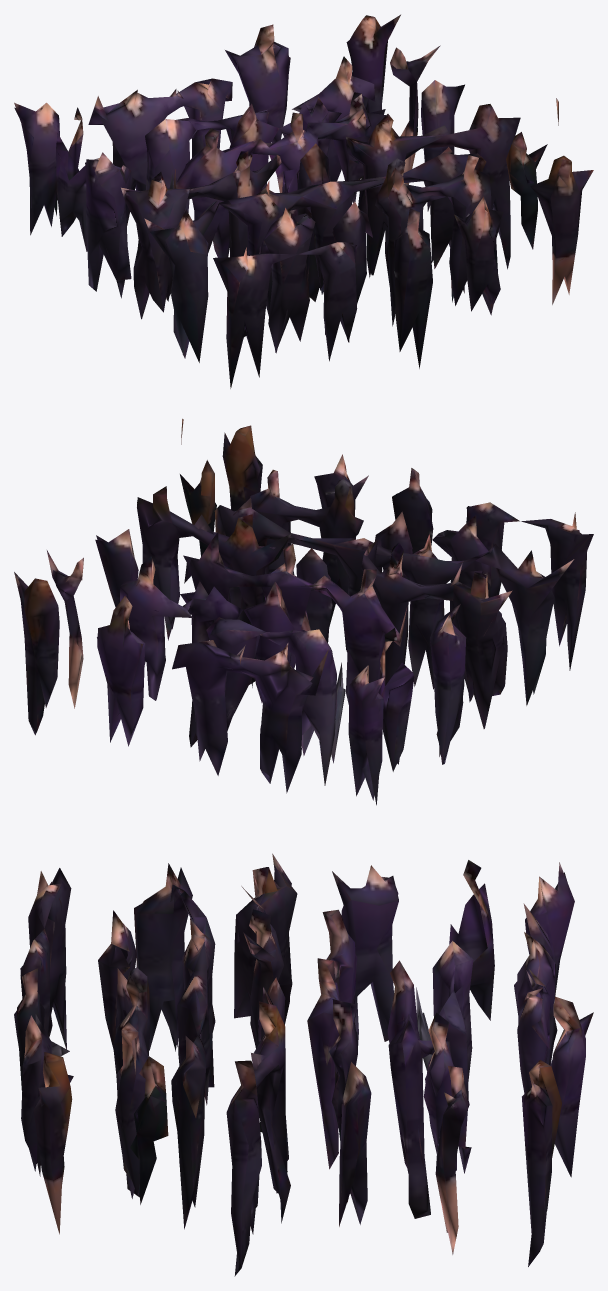
File: crowd-block-s1.lo.glb
The picture shows the model from 3 angles, top to bottom: view 1: azimuth 30°, elevation 25°; view 2: azimuth 150°, elevation 25°; view 3: azimuth 270°, elevation 25°; orthographic projection. The views are drawn at different scales.
Visible parts, largest first — view 1: geometry_0; view 2: geometry_0; view 3: geometry_0.
Boxes of the visible parts, x1,y1,x2,y2 form: geometry_0: [14, 14, 593, 388]; geometry_0: [14, 418, 593, 805]; geometry_0: [14, 853, 593, 1276].
Size of the model in its own units: 0.9613 by 0.466 by 0.9569.
1 material, 1 textured.
